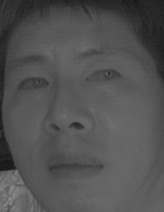eye: (83, 64, 126, 90), (14, 74, 50, 96)
mouth: (45, 147, 107, 186)
